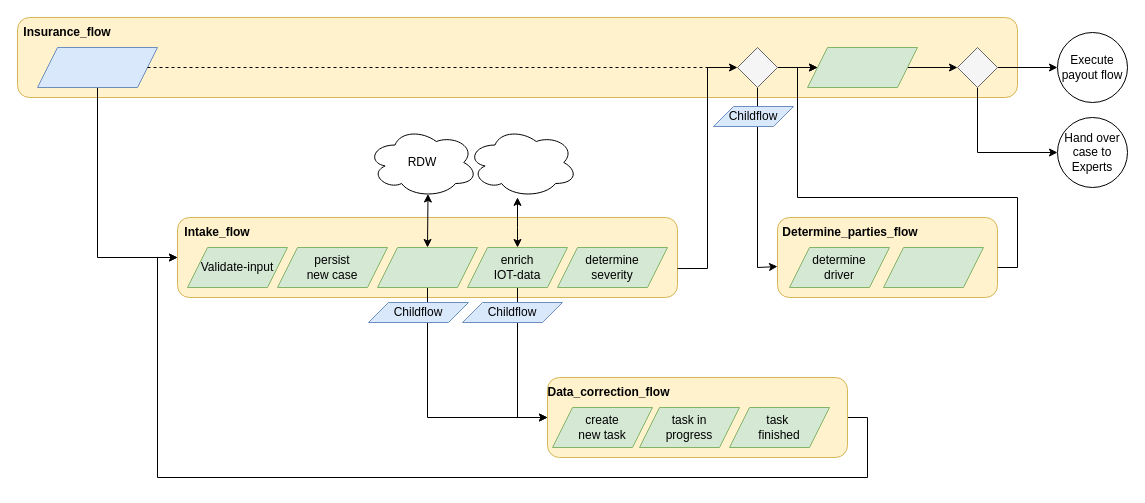
Some shapes in this 1145 by 503 pixel diagram are drawn without their labels. The shapes that lost their labels are listed below. From the top down, each one's box as (x1, y1, x2, y2) in pixels, then its label:
(36, 46, 158, 88): Childflow Intake_flow
(806, 46, 918, 88): prepare to execution
(466, 126, 578, 198): IOT
(376, 246, 478, 288): enrich RDW-data
(882, 246, 984, 288): determine guilty party
